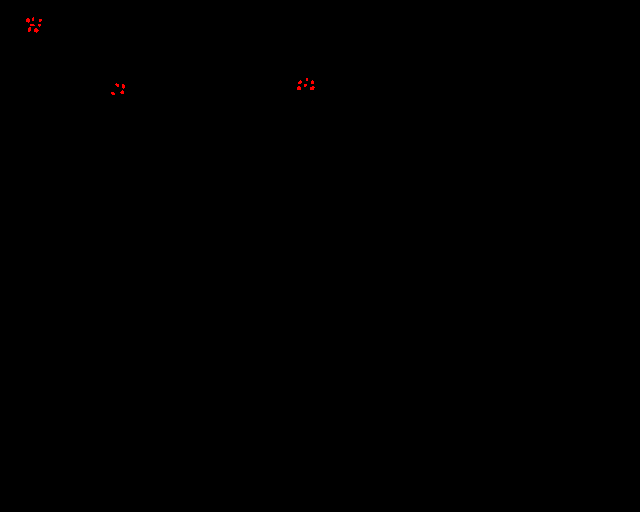Target: (34, 28, 39, 33), (26, 18, 30, 23), (310, 86, 315, 90), (298, 80, 302, 84), (115, 83, 119, 87), (297, 86, 301, 90), (120, 90, 124, 94), (28, 27, 31, 32), (122, 84, 125, 89), (311, 80, 314, 84), (111, 92, 115, 95), (30, 24, 35, 26), (39, 19, 42, 22), (38, 24, 41, 27), (304, 84, 307, 87), (32, 17, 34, 21), (306, 78, 308, 81)
